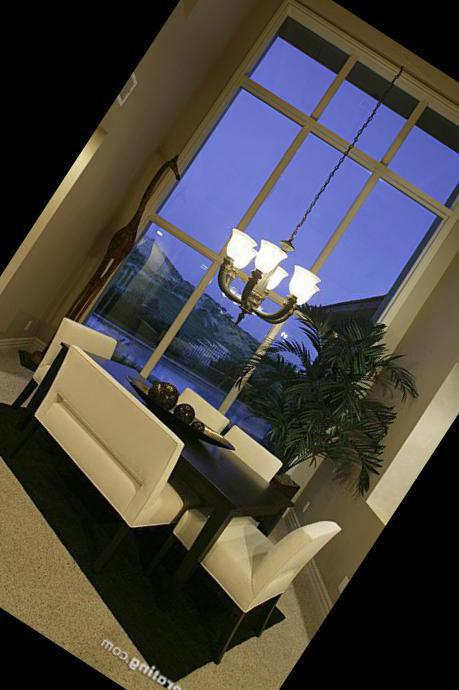Matera: (223, 276, 442, 517)
